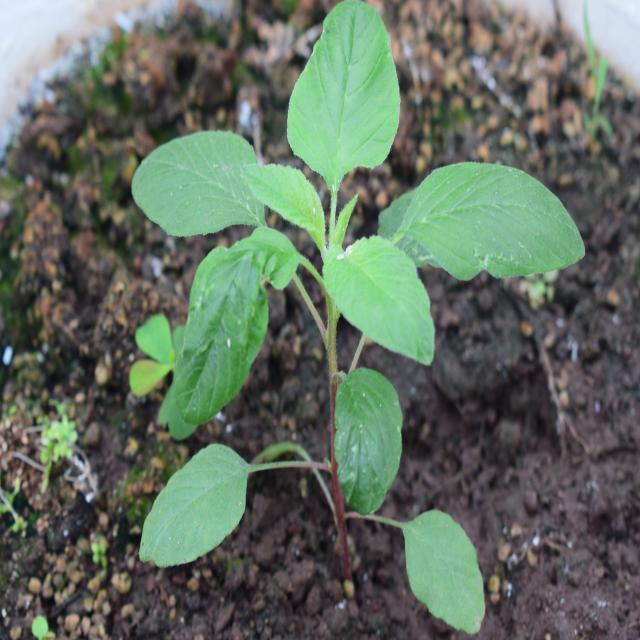pigweed: (145, 10, 567, 608)
